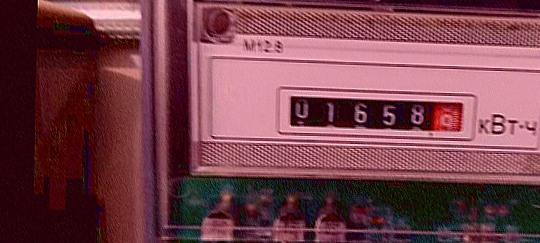0: (292, 98, 310, 119)
1: (322, 100, 337, 124)
5: (380, 103, 397, 127)
6: (351, 101, 370, 126)
8: (408, 103, 426, 126)
9: (437, 112, 453, 133)
screen: (273, 84, 480, 146)
